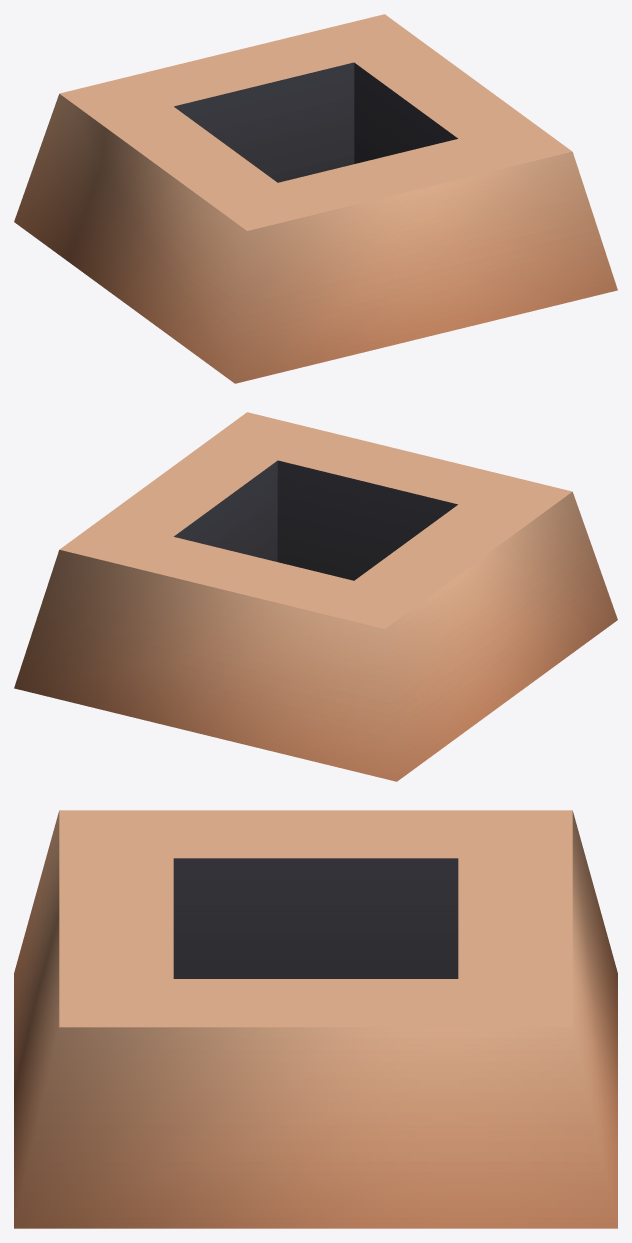
File: trap.obj
The picture shows the model from 3 angles, top to bottom: view 1: azimuth 30°, elevation 25°; view 2: azimuth 150°, elevation 25°; view 3: azimuth 270°, elevation 25°; orthographic projection. The views are drawn at different scales.
Visible parts, largest first — view 1: trap; view 2: trap; view 3: trap.
Part boxes in pixels (x1,y1,x2,y2): trap: [14, 14, 617, 383]; trap: [14, 412, 617, 781]; trap: [14, 810, 617, 1228].
Size of the model in its own units: 0.255 by 0.085 by 0.255.
